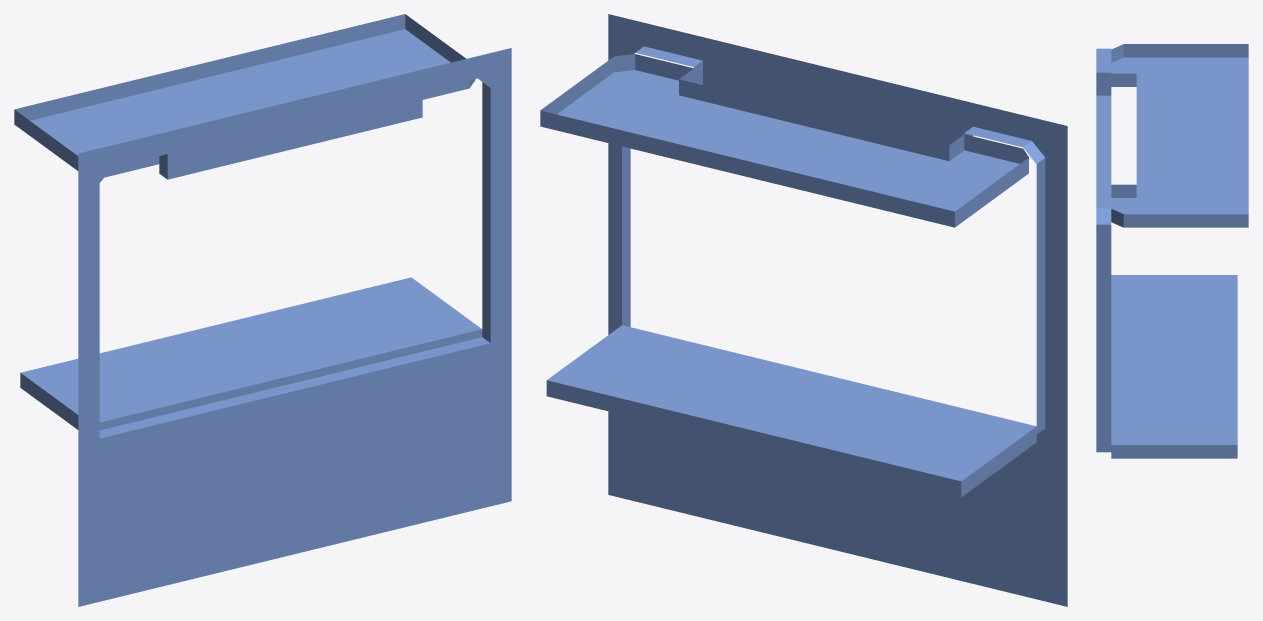
File: rcwallWindow.FBX
3 views of the same model, side by side, from view 1: azimuth 30°, elevation 25°; view 2: azimuth 150°, elevation 25°; view 3: azimuth 270°, elevation 25° (orthographic). The views are drawn at different scales.
Visible parts, largest first — view 1: wallWindow, wallServingLower, wallServingUpper; view 2: wallWindow, wallServingLower, wallServingUpper; view 3: wallServingLower, wallServingUpper, wallWindow.
Boxes of the visible parts, left/top/right/bottom form: wallWindow: left=78, top=48, right=511, bottom=606; wallServingLower: left=20, top=277, right=482, bottom=430; wallServingUpper: left=14, top=14, right=475, bottom=177; wallWindow: left=608, top=14, right=1067, bottom=606; wallServingLower: left=546, top=325, right=1036, bottom=497; wallServingUpper: left=540, top=54, right=1028, bottom=227; wallServingLower: left=1111, top=275, right=1237, bottom=458; wallServingUpper: left=1111, top=44, right=1248, bottom=227; wallWindow: left=1096, top=48, right=1111, bottom=452.
Bounding box in the file's own units: 3 × 3 × 1.02.
